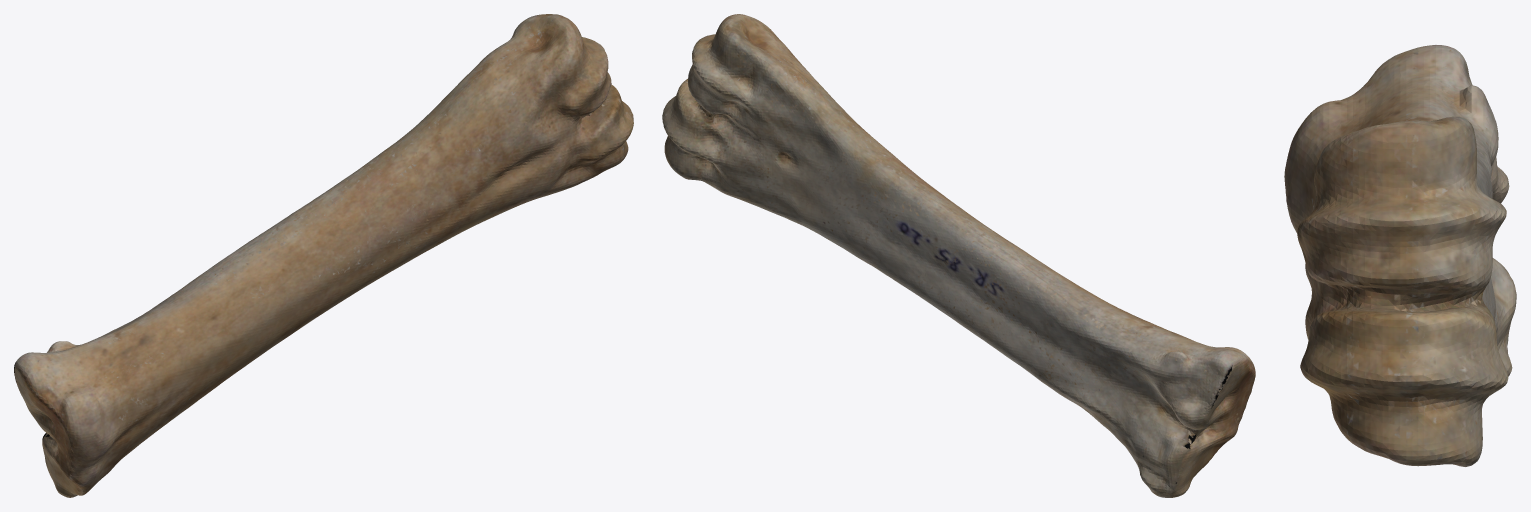
3 renders of one model, left to right at view 1: azimuth 30°, elevation 25°; view 2: azimuth 150°, elevation 25°; view 3: azimuth 270°, elevation 25°, orthographic. The views are drawn at different scales.
Parts seen in each view (by area): view 1: Node; view 2: Node; view 3: Node.
Part boxes in pixels (box(x1,y1,x2,y2)): Node: box(14, 14, 633, 497); Node: box(662, 14, 1255, 497); Node: box(1284, 45, 1516, 466).
Size of the model in its own units: 202 by 119 by 35.24.
Materials: 1 (1 with a texture image).
